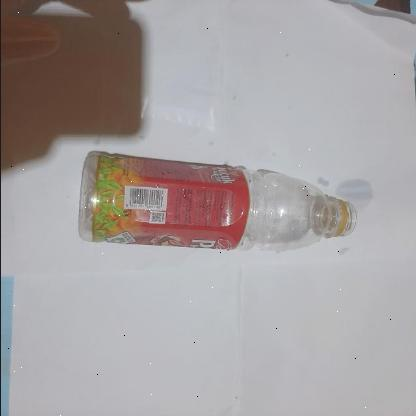Plastic Bottle: (66, 154, 362, 256)
